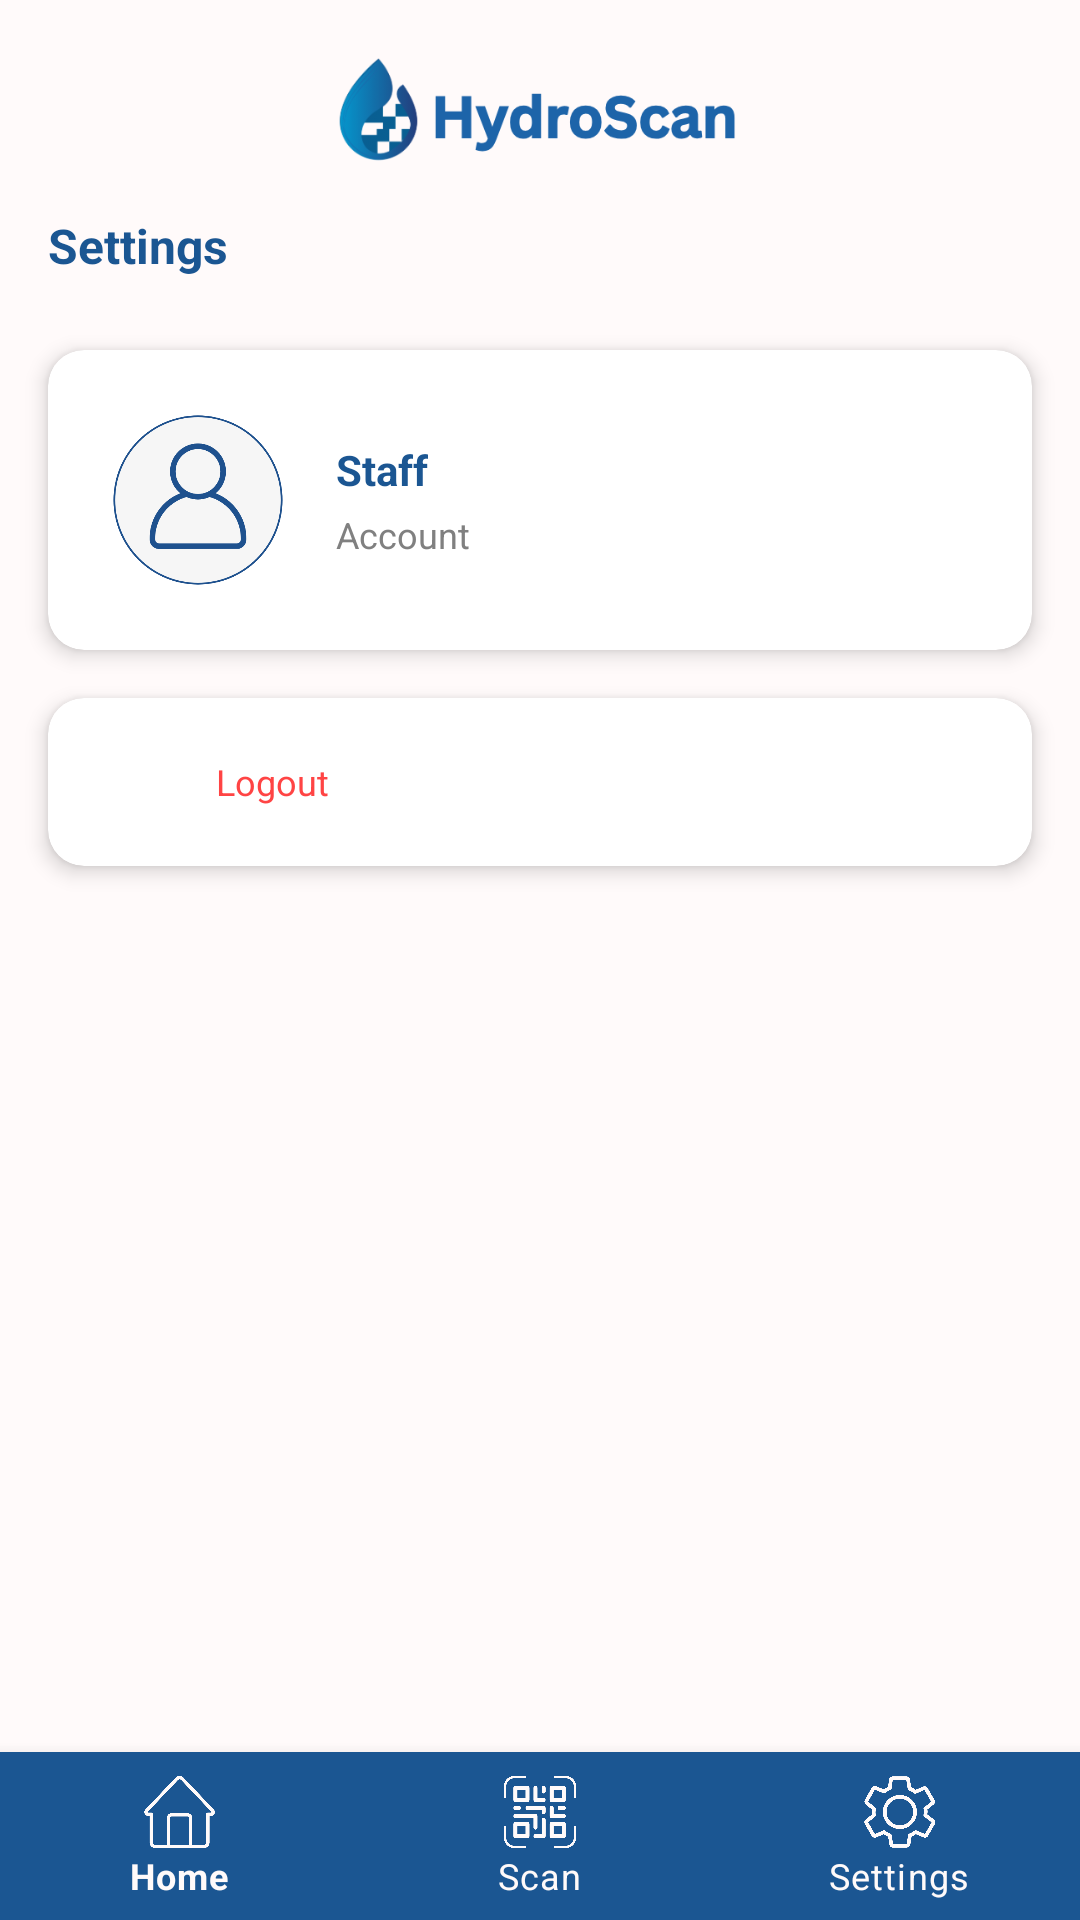

Icon click points for this 1080*1920 phone screenshot, format (x,y):
Person: (198,500)
